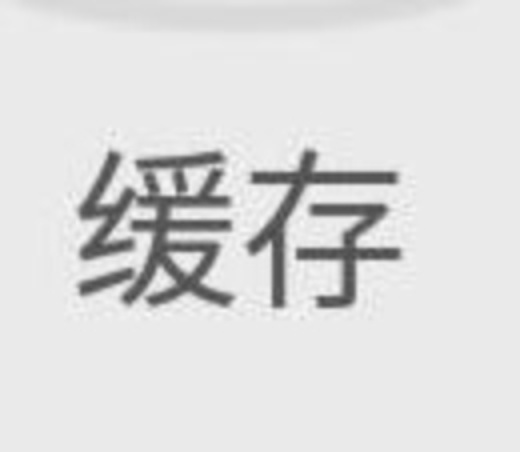TextView: (1, 1, 519, 451)
